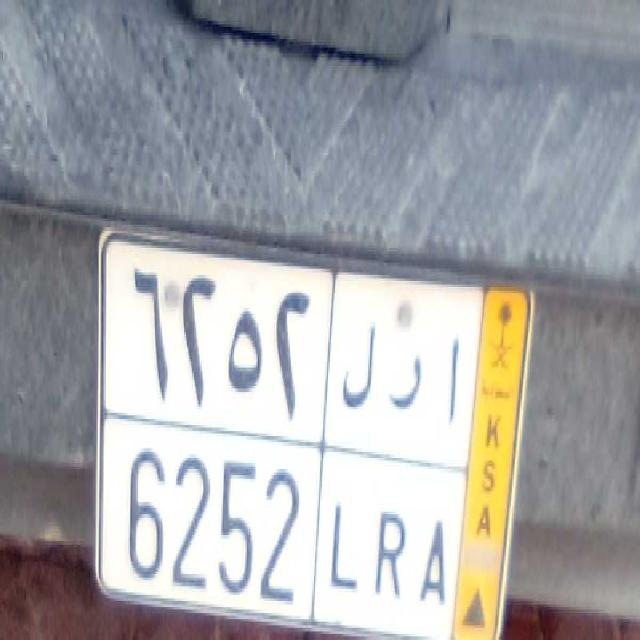license_plate: (106, 423, 453, 640)
